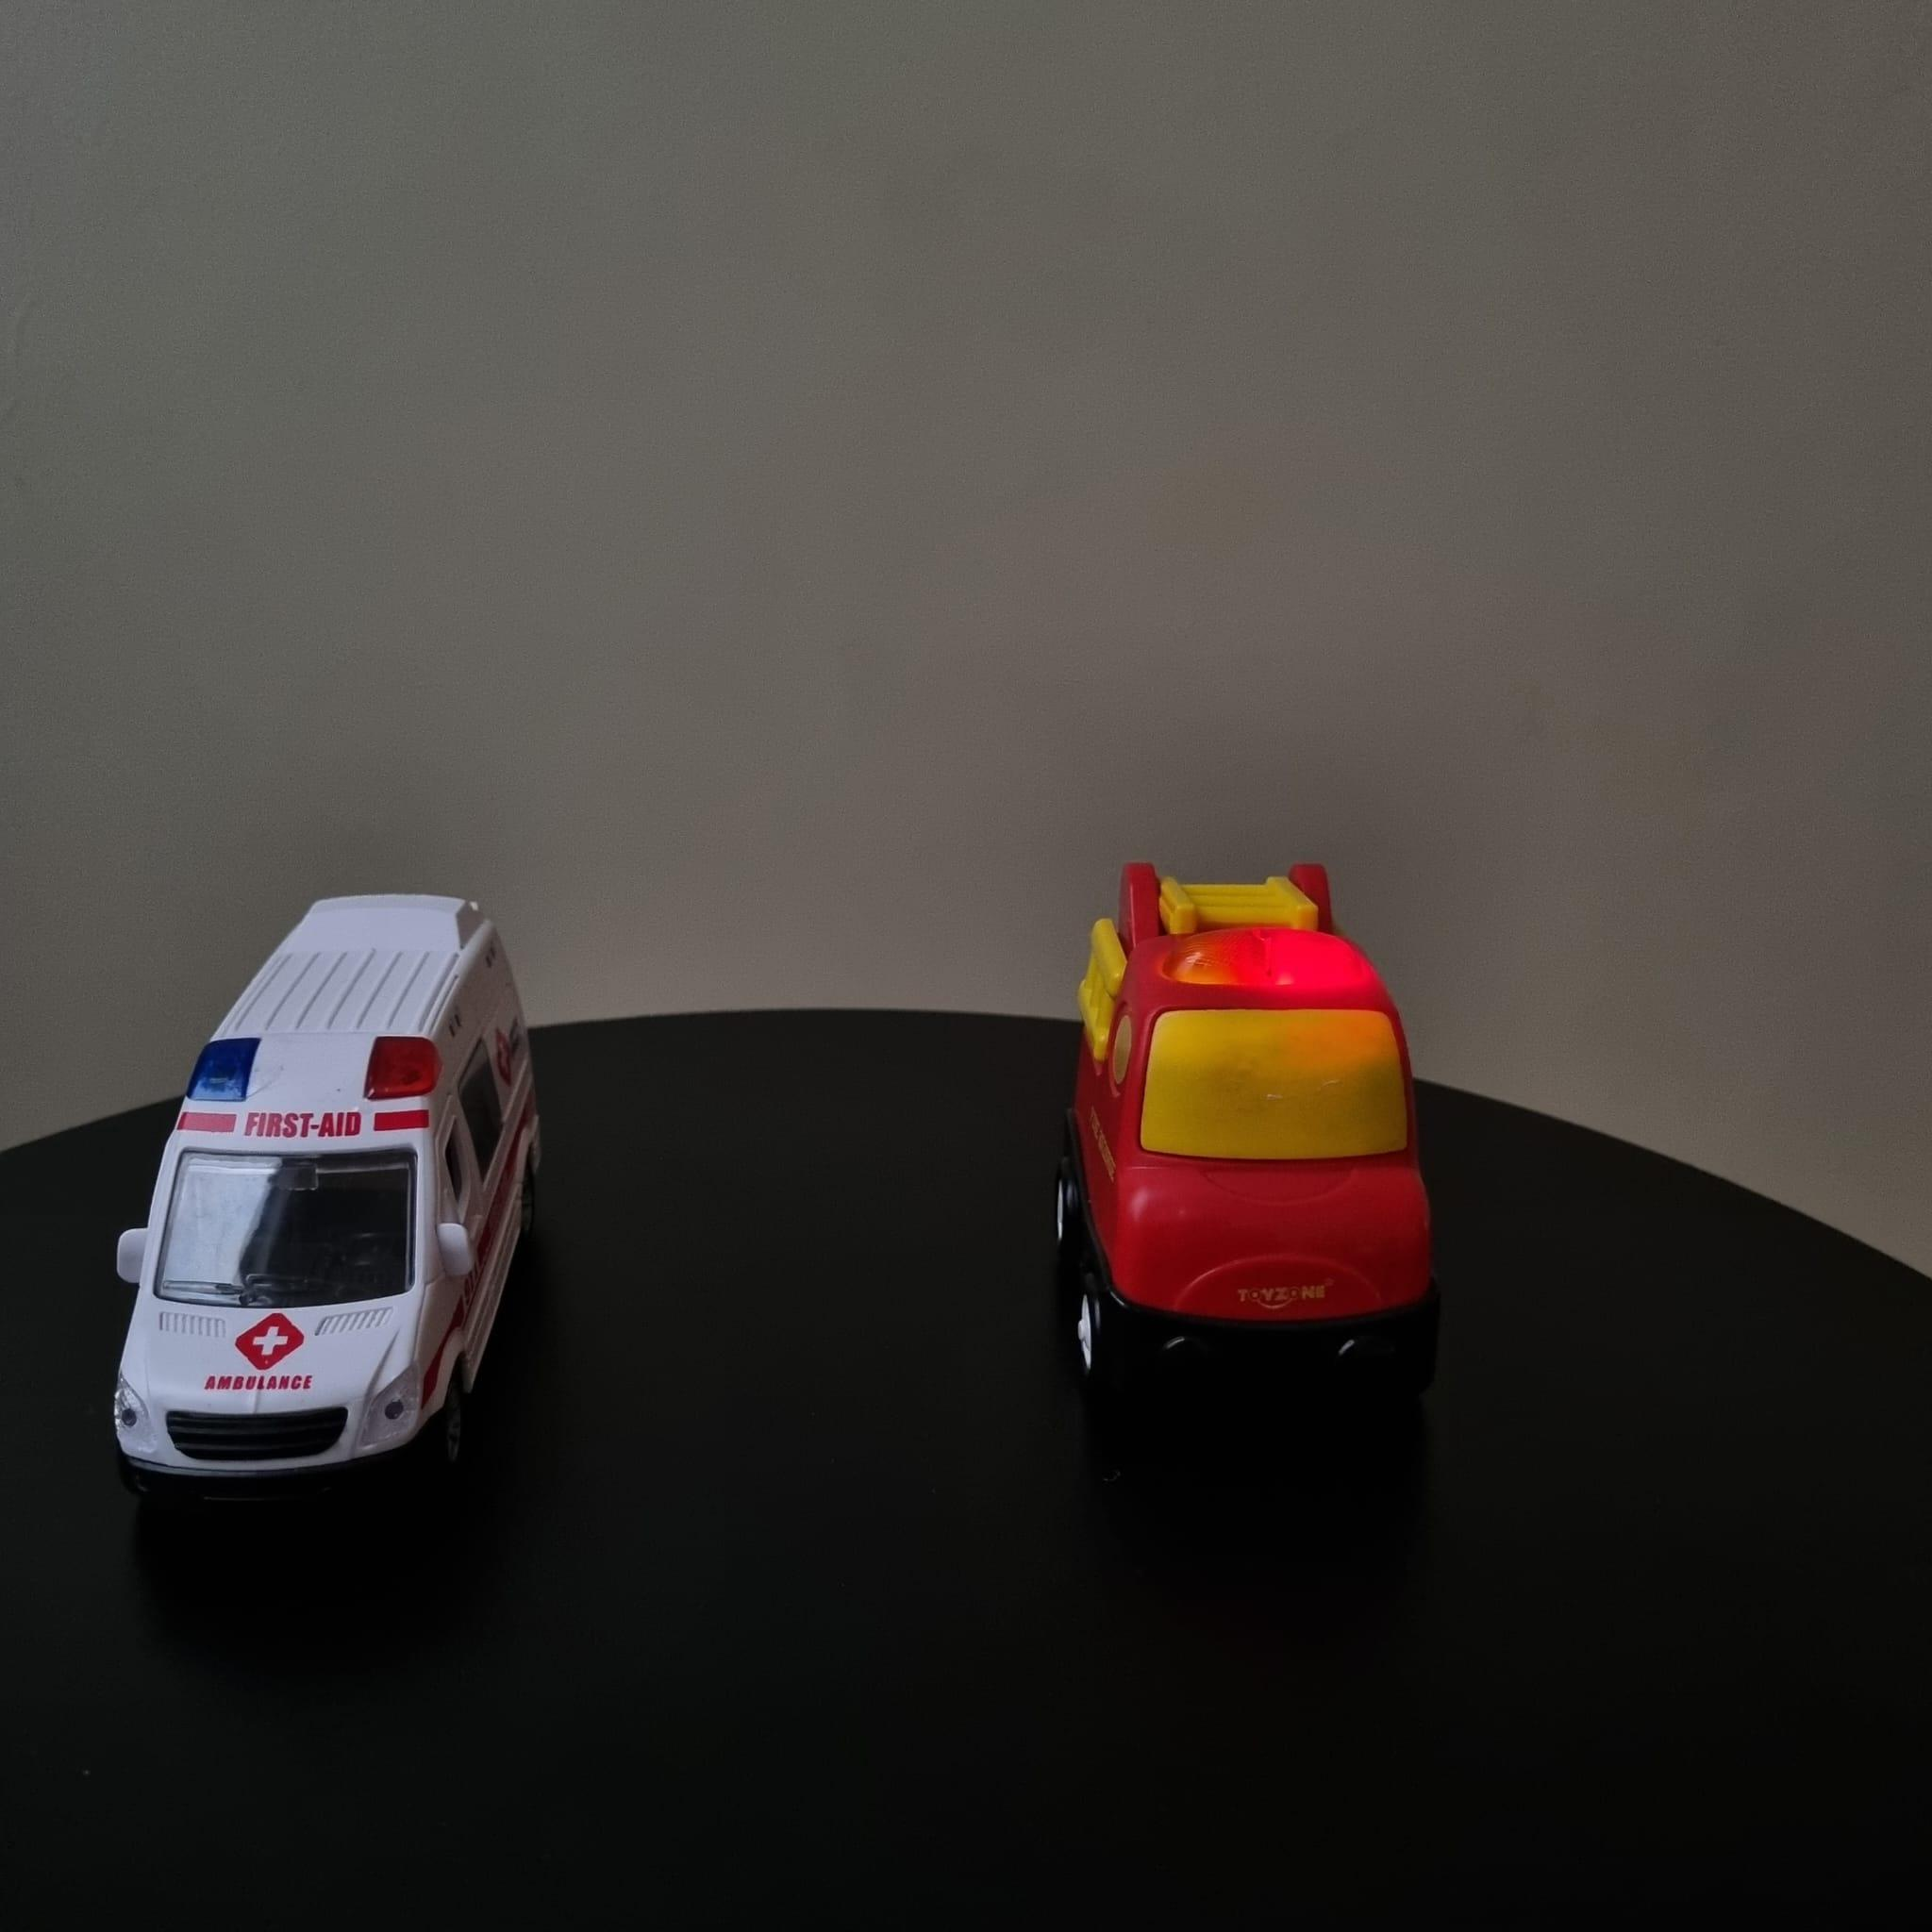ambulance_off: (111, 883, 547, 1507)
firetruck_on: (1033, 849, 1449, 1417)
